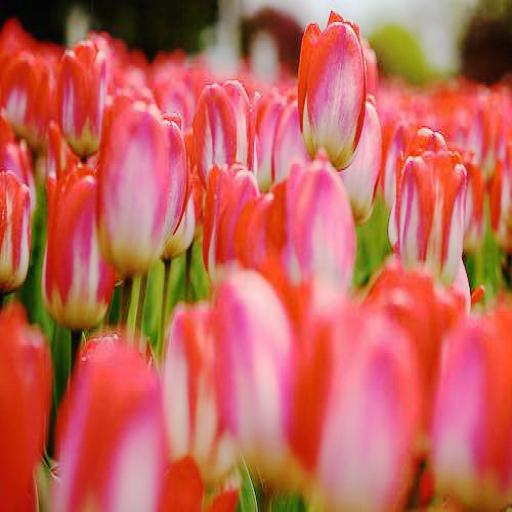tulip: (98, 101, 171, 272), (43, 170, 114, 328), (299, 11, 368, 170), (396, 126, 464, 285), (58, 41, 110, 154)
